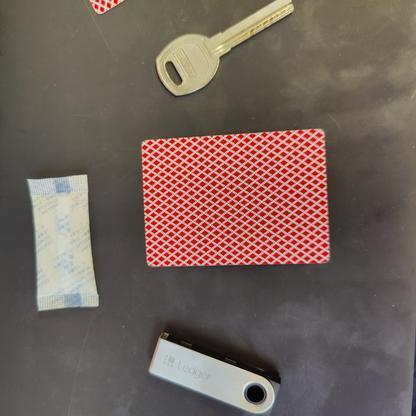card: (128, 122, 338, 271)
